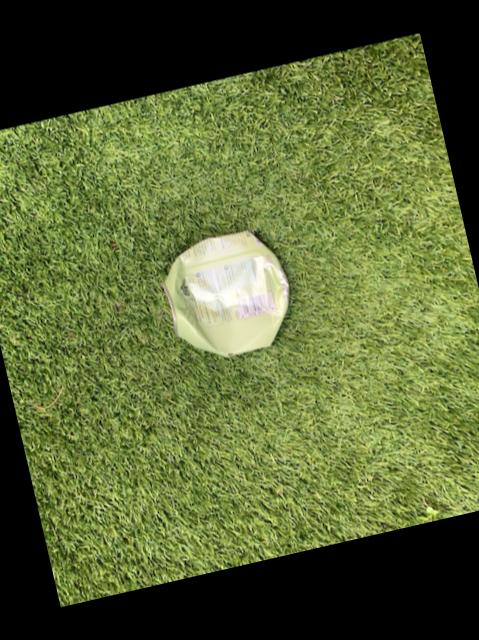metal: (160, 229, 285, 355)
